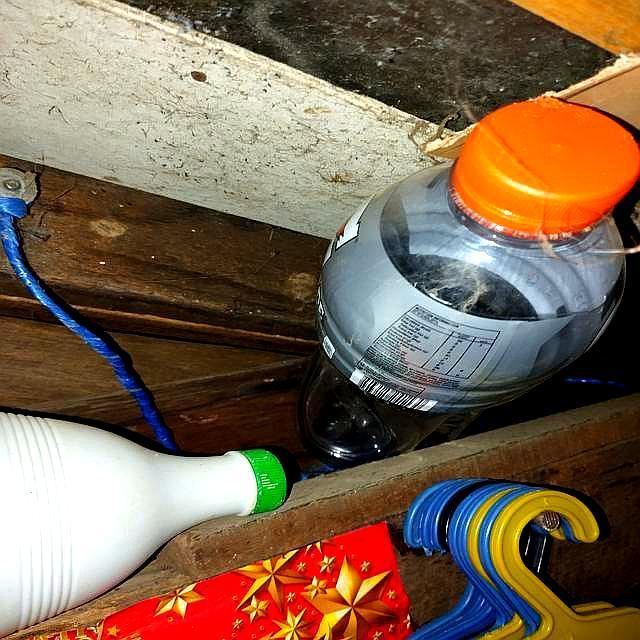Non-biodegradable: (285, 93, 640, 473), (1, 409, 303, 640)
